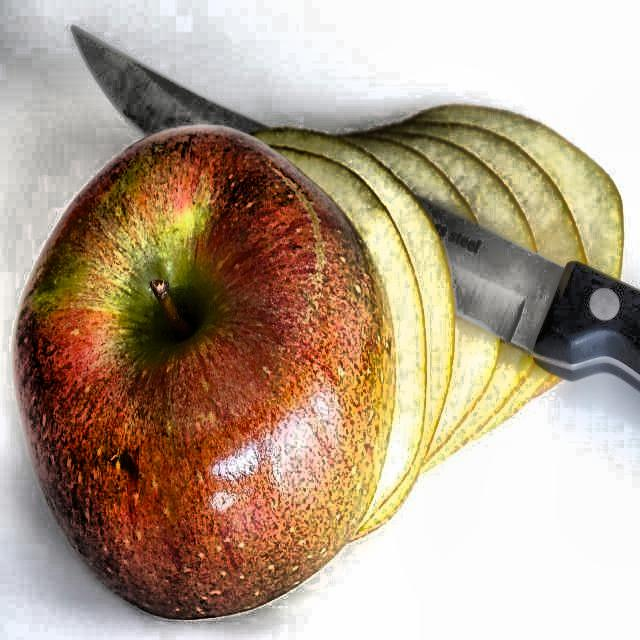knife: (69, 25, 640, 395)
